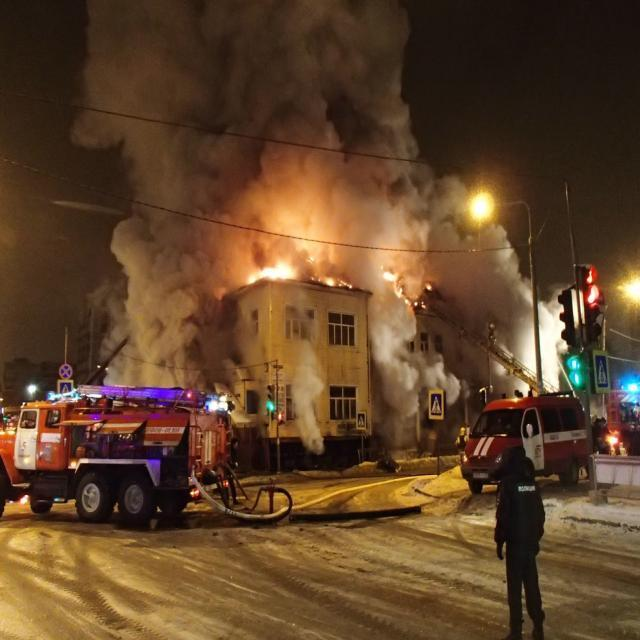Fire: (382, 268, 434, 308), (248, 266, 294, 286), (316, 274, 352, 288)
Smoke: (76, 0, 406, 260), (115, 264, 238, 387), (443, 270, 558, 386), (366, 312, 444, 418), (410, 157, 464, 266)
